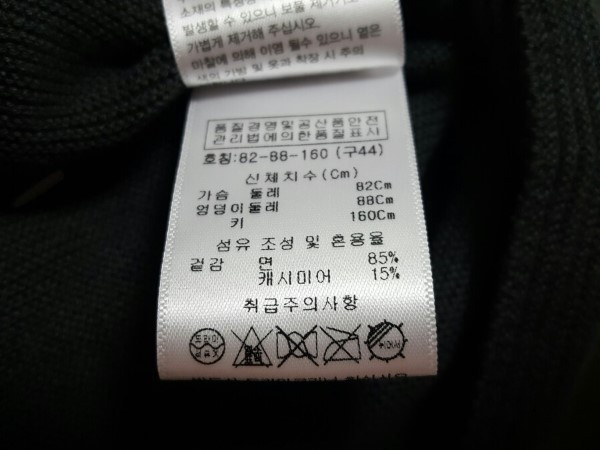KR_dry_clean_petroleum: (188, 326, 228, 367)
KR_flat_dry_in_shade: (363, 317, 410, 364)
KR_no_chlorine_bleach: (230, 325, 272, 368)
KR_no_iron: (320, 324, 364, 366)
KR_no_wring: (274, 324, 320, 366)
